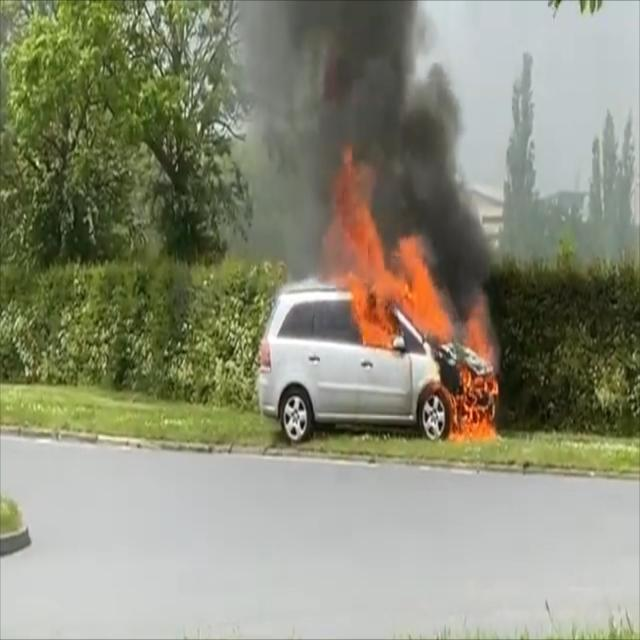fire: (328, 100, 500, 455)
